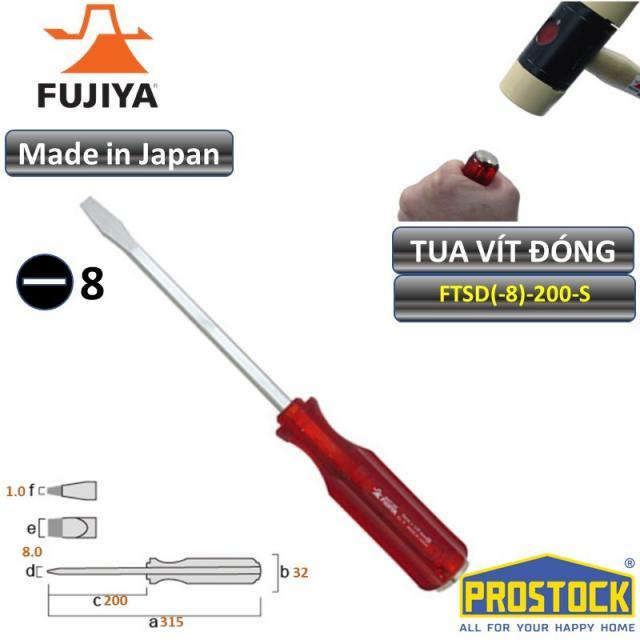hammer: (493, 0, 640, 119)
screwdriver: (72, 186, 474, 596)
